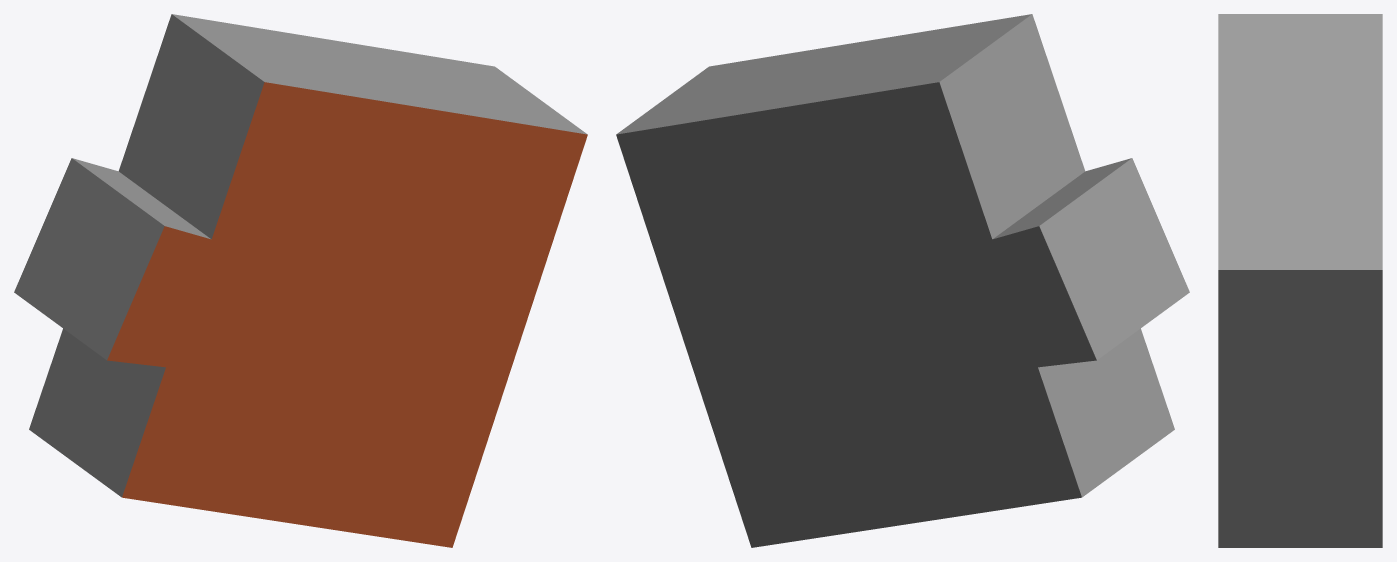
The model's file is construction_4073_assumed_A_Casa_h6m.obj.
The picture shows the model from 3 angles, left to right: view 1: azimuth 30°, elevation 25°; view 2: azimuth 150°, elevation 25°; view 3: azimuth 270°, elevation 25°; orthographic projection. The views are drawn at different scales.
Visible parts, largest first — view 1: construction_4073_assumed_A_Casa; view 2: construction_4073_assumed_A_Casa; view 3: construction_4073_assumed_A_Casa.
Boxes of the visible parts, left/top/right/bottom form: construction_4073_assumed_A_Casa: left=14, top=14, right=587, bottom=547; construction_4073_assumed_A_Casa: left=616, top=14, right=1189, bottom=547; construction_4073_assumed_A_Casa: left=1218, top=14, right=1382, bottom=547.
Bounding box in the file's own units: 17.91 × 18.21 × 6.
